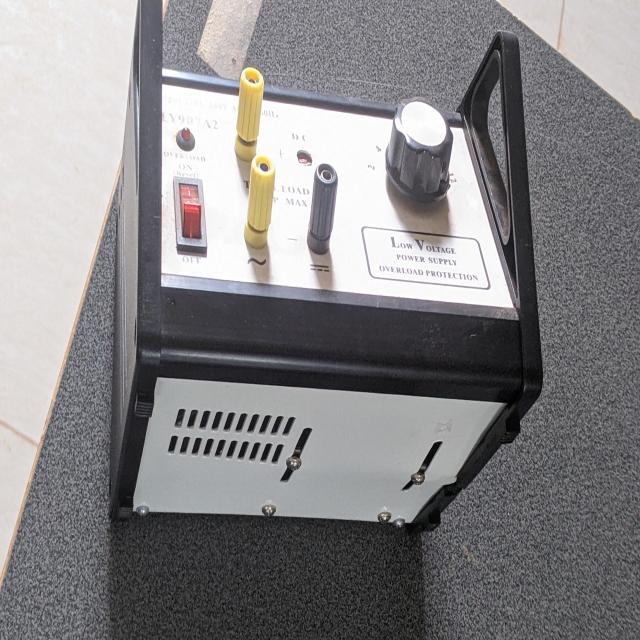AC-AD Regulated Power Supply: (118, 26, 546, 542)
